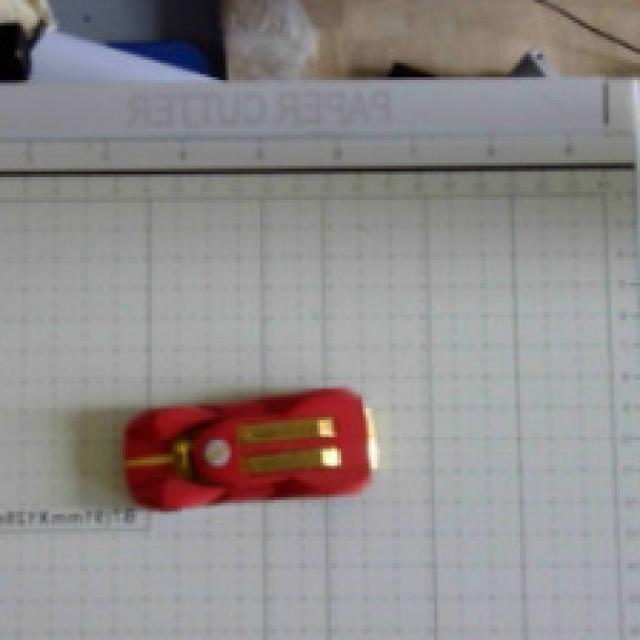Red Car: (42, 362, 463, 570)
